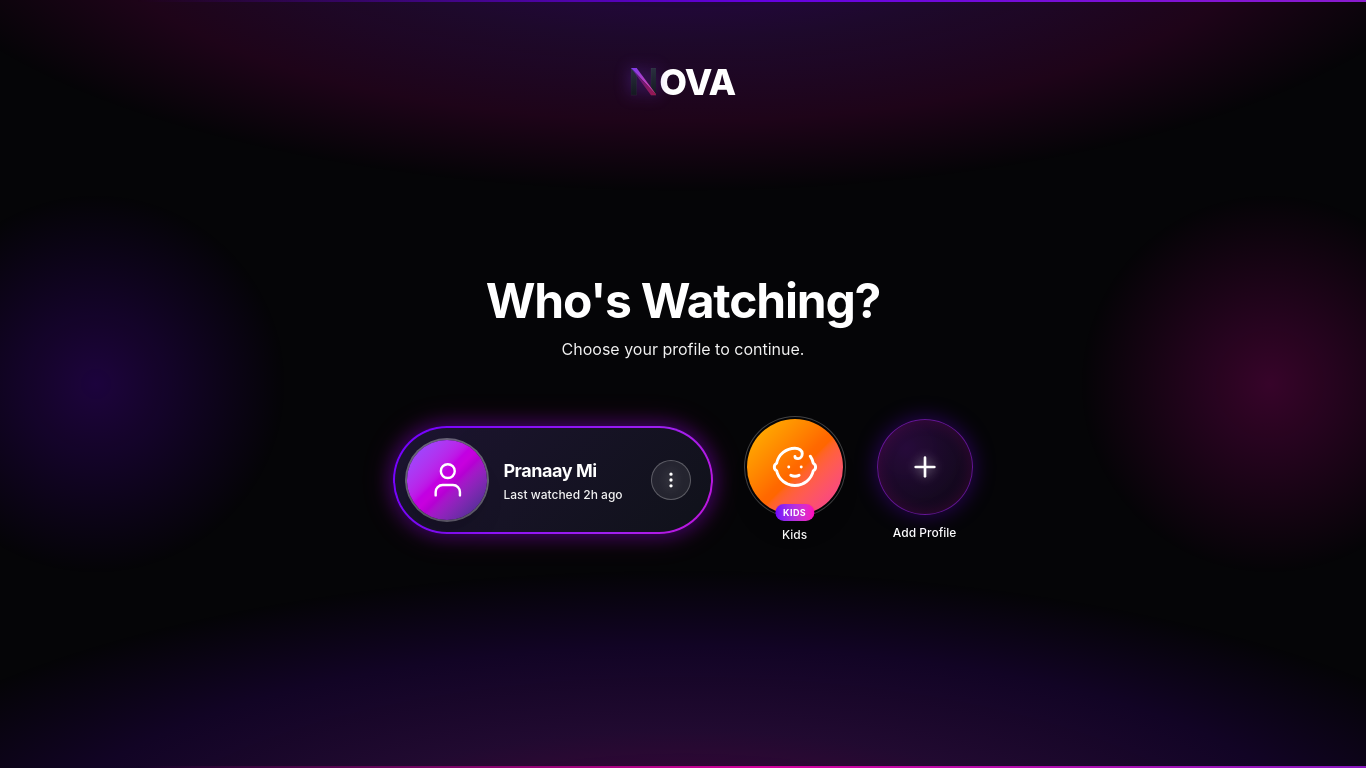
Test: TV profile selection page › changes avatar and enters home smoothly when a profile is picked
The image size is (1366, 768).
Later steps or results of the test are not shown.
Click the button named "Profile options for Pranaay Mi".
click(671, 480)  # box [651,460,691,500]
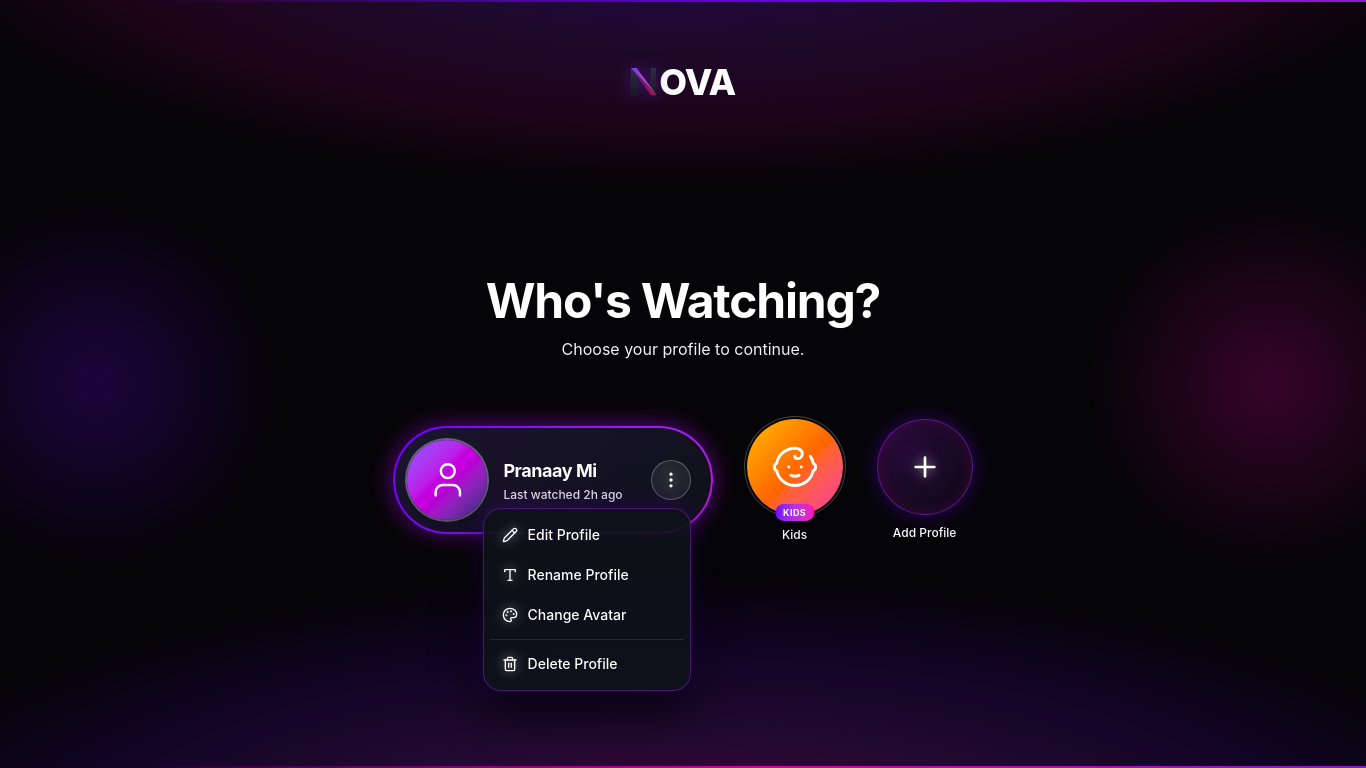
Click the menu item "Change Avatar".
click(587, 615)  # box [490,595,684,635]
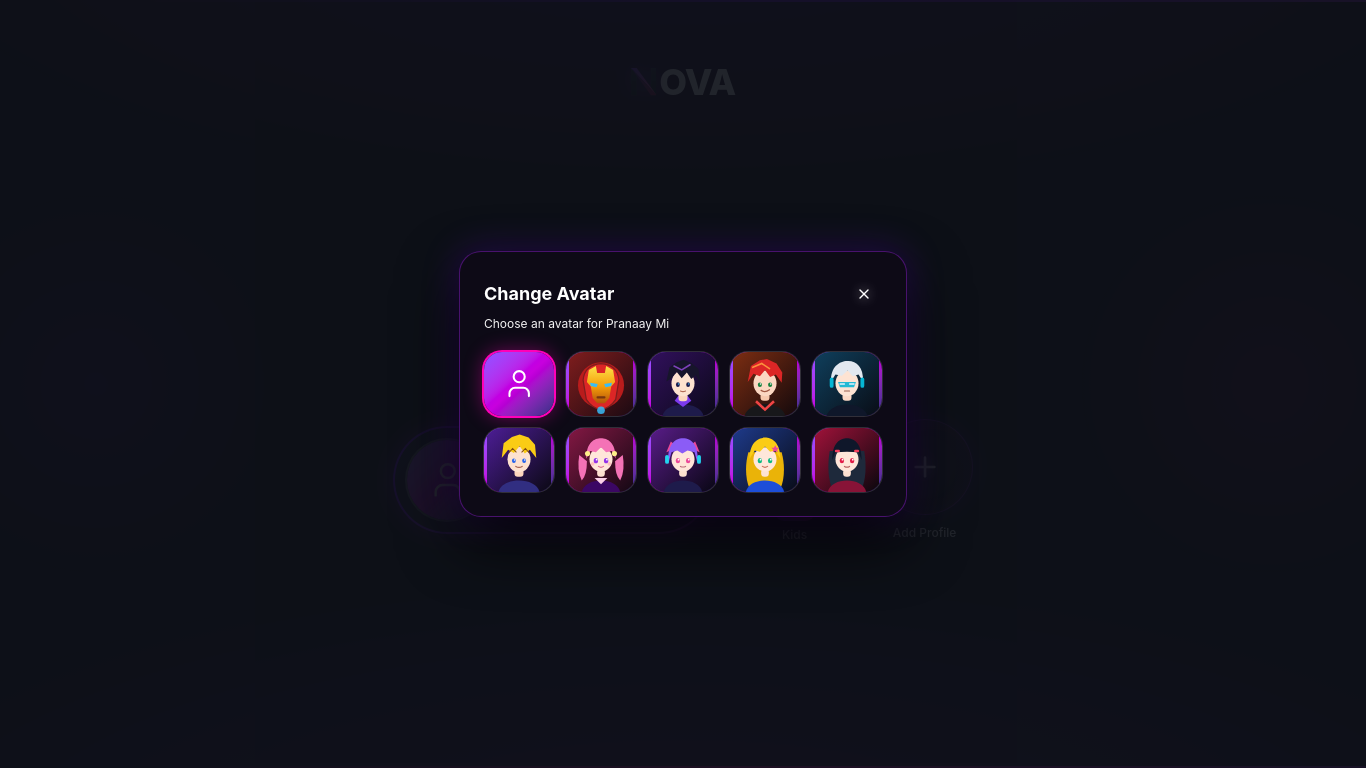
Expected: the number of buttons named "Select avatar " is 10
Expected: the button named "Select avatar Normal" is shown, [484,352,554,416]
